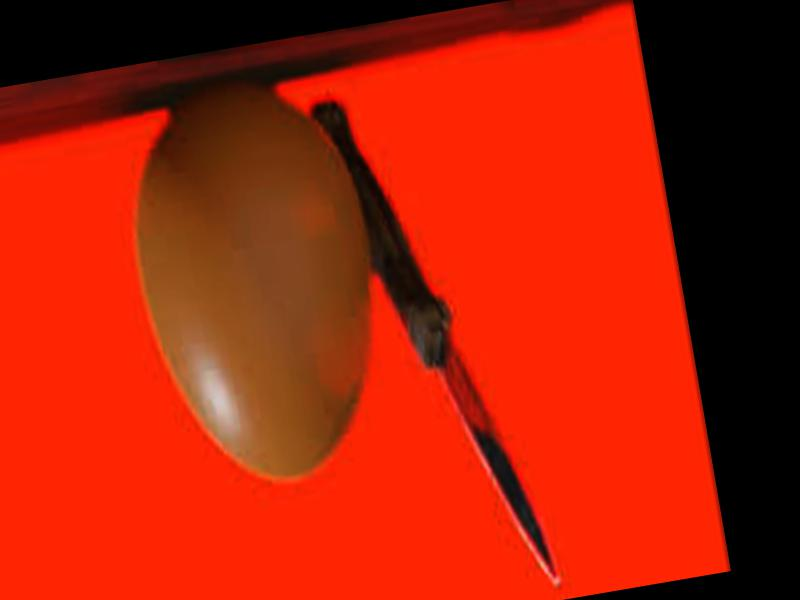Eggs: (114, 72, 403, 494)
